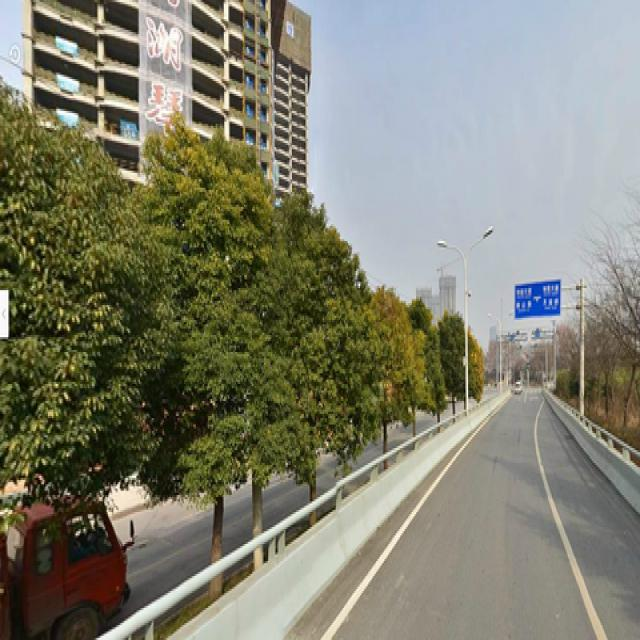cinn: (150, 143, 250, 557), (287, 198, 349, 495), (367, 286, 409, 456)
